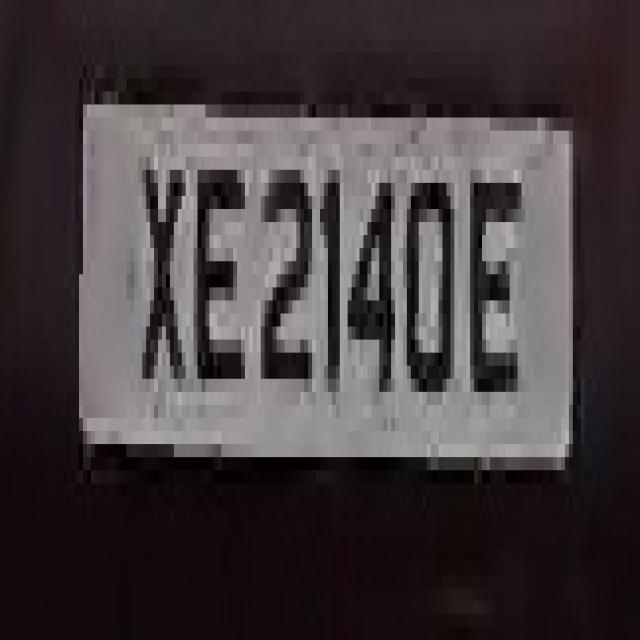0: (399, 144, 454, 418)
1: (308, 144, 348, 392)
2: (249, 105, 312, 431)
4: (340, 131, 399, 444)
E: (450, 105, 526, 431), (190, 131, 249, 457)
X: (130, 105, 193, 444)
